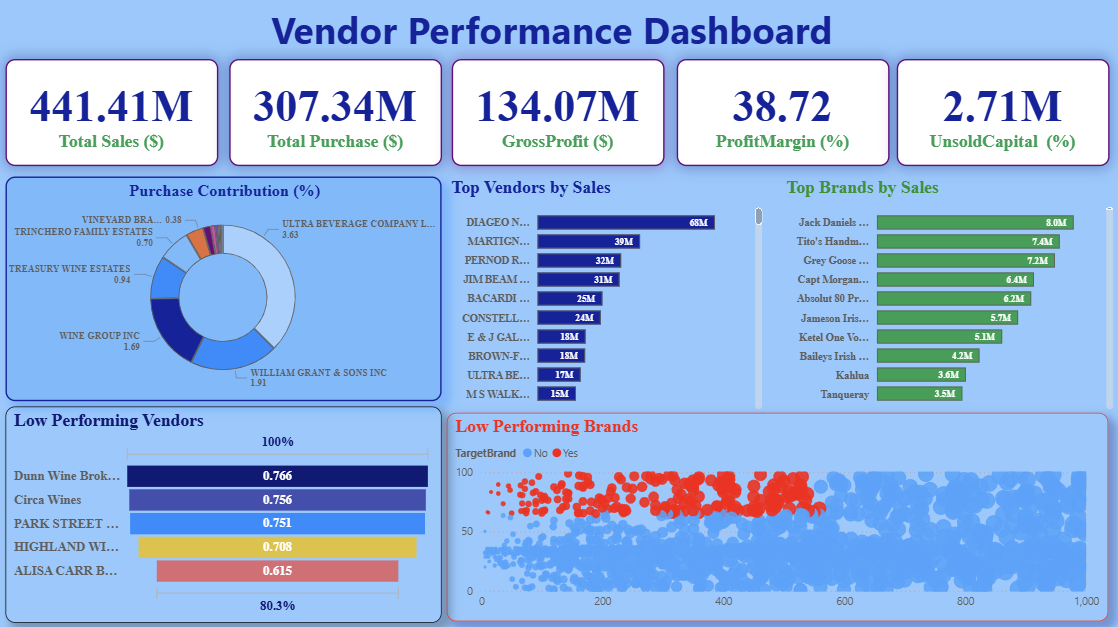

This screenshot's page, from the dashboard's own definition file:
{"tool":"powerbi","page":{"name":"Vendor Performance Dashboard","canvas":[1280,720],"ordinal":0},"visuals":[{"type":"textbox","box":[306.8,0,711.7,68.7],"z":0},{"type":"card","fields":{"Values":["Vendor_Sales_Summary.TotalSalesDollars"]},"box":[8.6,68.7,242.9,122.7],"z":1000},{"type":"card","fields":{"Values":["Vendor_Sales_Summary.TotalPurchaseDollars"]},"box":[263.8,68.7,242.9,122.7],"z":2000},{"type":"card","fields":{"Values":["Vendor_Sales_Summary.GrossProfit"]},"box":[519,68.7,242.9,122.7],"z":3000},{"type":"card","fields":{"Values":["Vendor_Sales_Summary.ProfitMargin"]},"box":[775.5,68.7,242.9,122.7],"z":4000},{"type":"card","fields":{"Values":["Vendor_Sales_Summary.UnsoldCapital"]},"box":[1027,68.7,242.9,122.7],"z":5000},{"type":"donutChart","title":"Purchase Contribution (%) ","fields":{"Category":["PurchaseContribution.VendorName"],"Y":["PurchaseContribution.PurchaseContribution%"]},"box":[8.2,203.1,498.1,256.6],"z":6000},{"type":"barChart","title":"Top Vendors by Sales","fields":{"Category":["Vendor_Sales_Summary.VendorName"],"Y":["Vendor_Sales_Summary.TotalSalesDollars"]},"box":[512.9,203.7,365.6,269.9],"z":7000},{"type":"barChart","title":"Top Brands by Sales","fields":{"Y":["Vendor_Sales_Summary.TotalSalesDollars"],"Category":["Vendor_Sales_Summary.Description"]},"box":[895.7,203.7,384.1,269.9],"z":7001},{"type":"funnel","title":"Low Performing Vendors","fields":{"Category":["LowTurnoverVendor.VendorName"],"Y":["LowTurnoverVendor.AvgStockTurnOver"]},"box":[8.2,465.2,498.1,247],"z":7002},{"type":"scatterChart","title":"Low Performing Brands","fields":{"X":["BrandPerformance.TotalSales"],"Y":["BrandPerformance.AvgProfitMargin"],"Series":["BrandPerformance.TargetBrand"],"Size":["BrandPerformance.TotalSales"],"Category":["BrandPerformance.Description"]},"box":[513.2,473.4,756.1,238.8],"z":7003}]}

Visuals, with their boxes in screenshot pixels (x1, y1, x2, y2), scaled from the page's 1280x720 canvas onto the 1118x627 screenshot:
textbox: BBox(268, 0, 890, 60)
card - Vendor_Sales_Summary.TotalSalesDollars: BBox(8, 60, 220, 167)
card - Vendor_Sales_Summary.TotalPurchaseDollars: BBox(230, 60, 443, 167)
card - Vendor_Sales_Summary.GrossProfit: BBox(453, 60, 665, 167)
card - Vendor_Sales_Summary.ProfitMargin: BBox(677, 60, 890, 167)
card - Vendor_Sales_Summary.UnsoldCapital: BBox(897, 60, 1109, 167)
"Purchase Contribution (%) " donutChart: BBox(7, 177, 442, 400)
"Top Vendors by Sales" barChart: BBox(448, 177, 767, 412)
"Top Brands by Sales" barChart: BBox(782, 177, 1117, 412)
"Low Performing Vendors" funnel: BBox(7, 405, 442, 620)
"Low Performing Brands" scatterChart: BBox(448, 412, 1109, 620)
